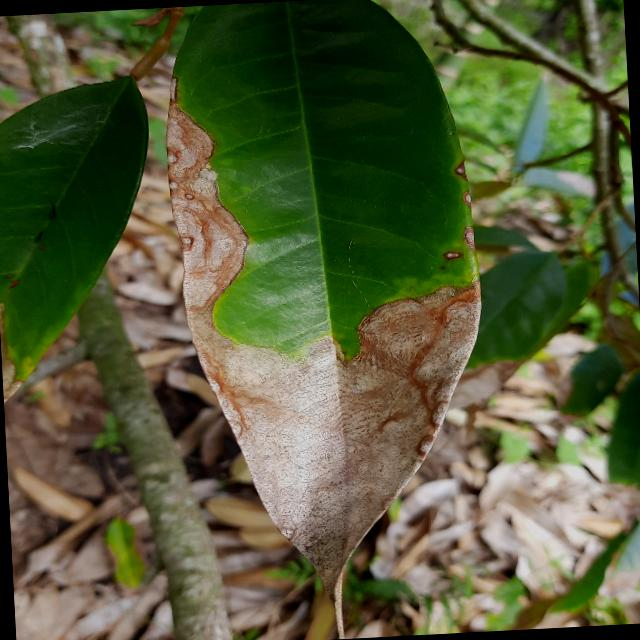Leaf Blight: (149, 0, 506, 639)
